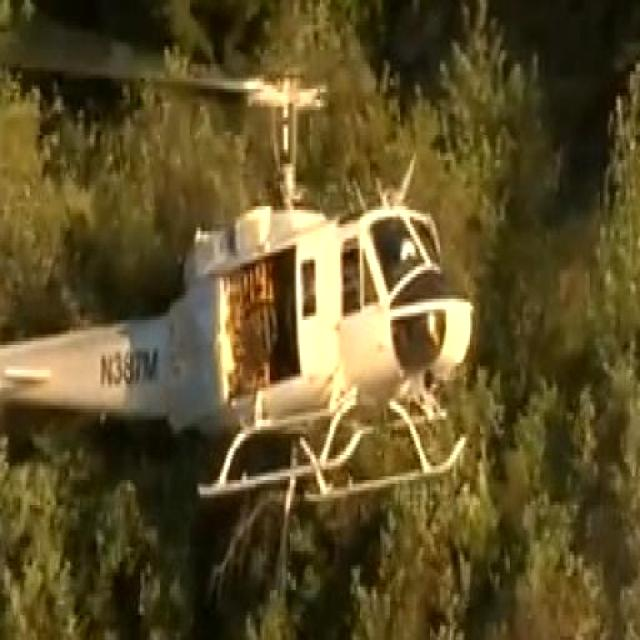drone: (0, 18, 478, 509)
